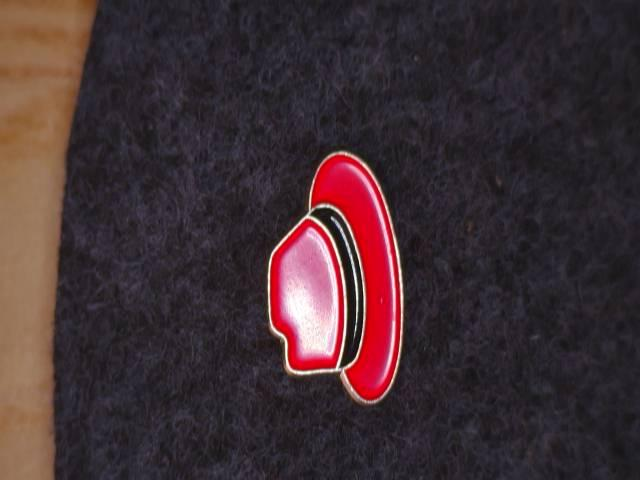Red-Hat: (246, 131, 434, 419)
